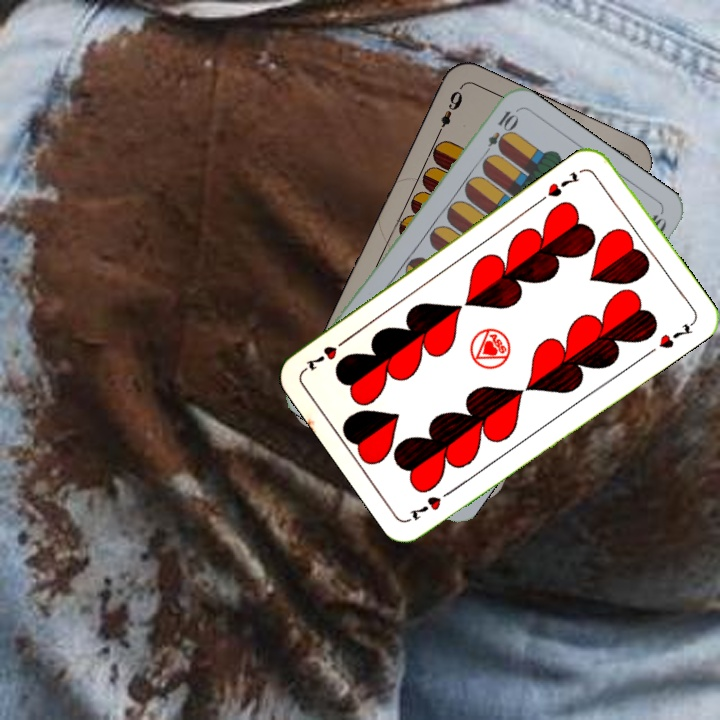E10: (478, 106, 520, 161)
E9: (432, 86, 465, 139)
H7: (405, 484, 458, 523), (543, 168, 582, 200)
